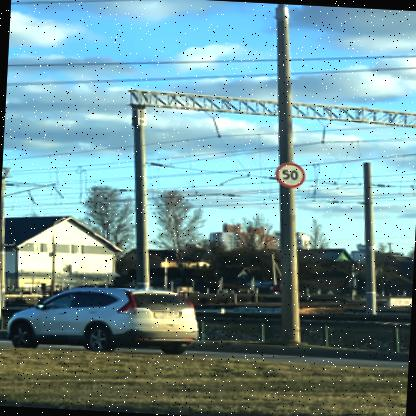speedlimit: (270, 158, 304, 188)
